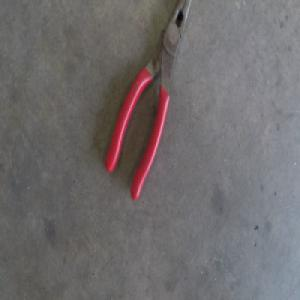Pliers: (103, 0, 190, 200)
